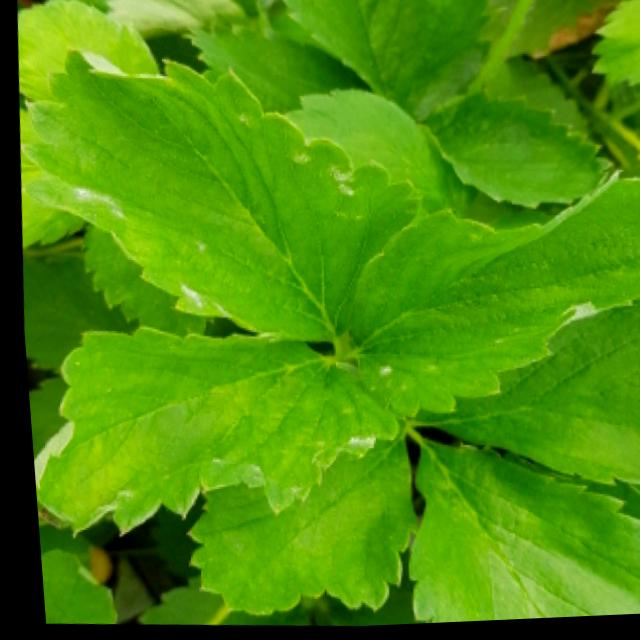Powdery Mildew Leaf: (17, 44, 422, 346), (27, 323, 393, 541), (330, 175, 640, 424)
